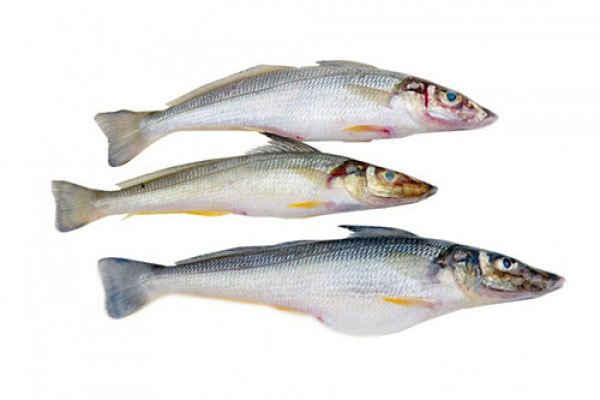kiss: (94, 51, 512, 150), (47, 138, 446, 227)
